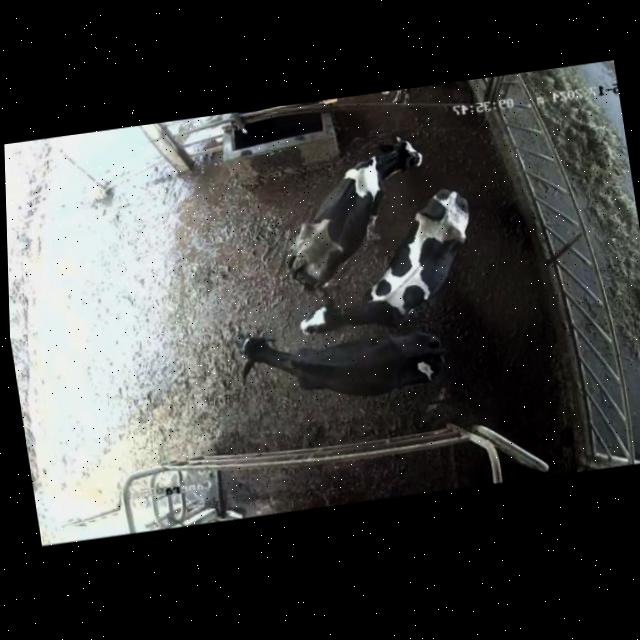stand: (270, 178, 507, 356), (256, 122, 443, 291), (222, 297, 473, 422)
